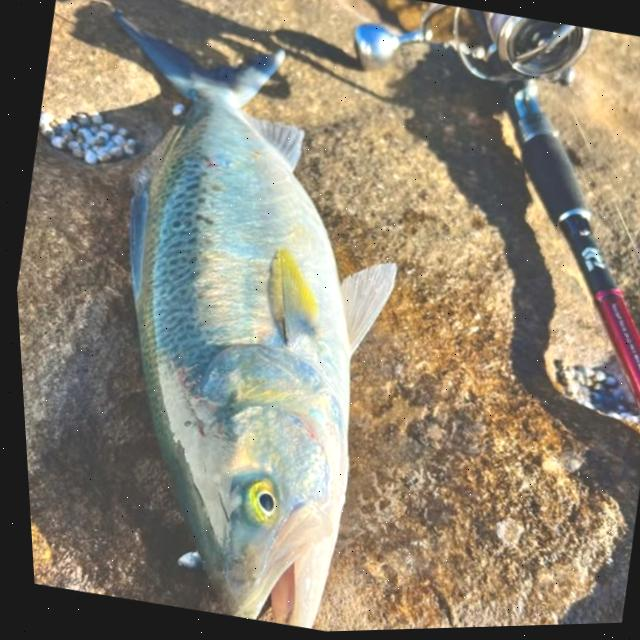Australian Salmon: (0, 0, 480, 640)
